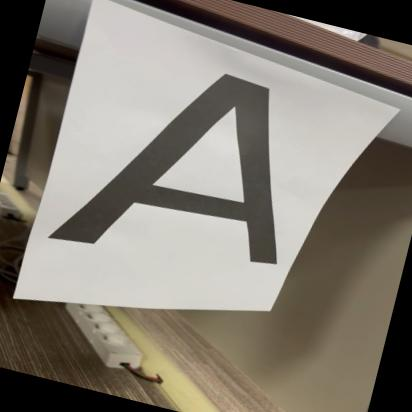seat: (48, 30, 325, 312)
